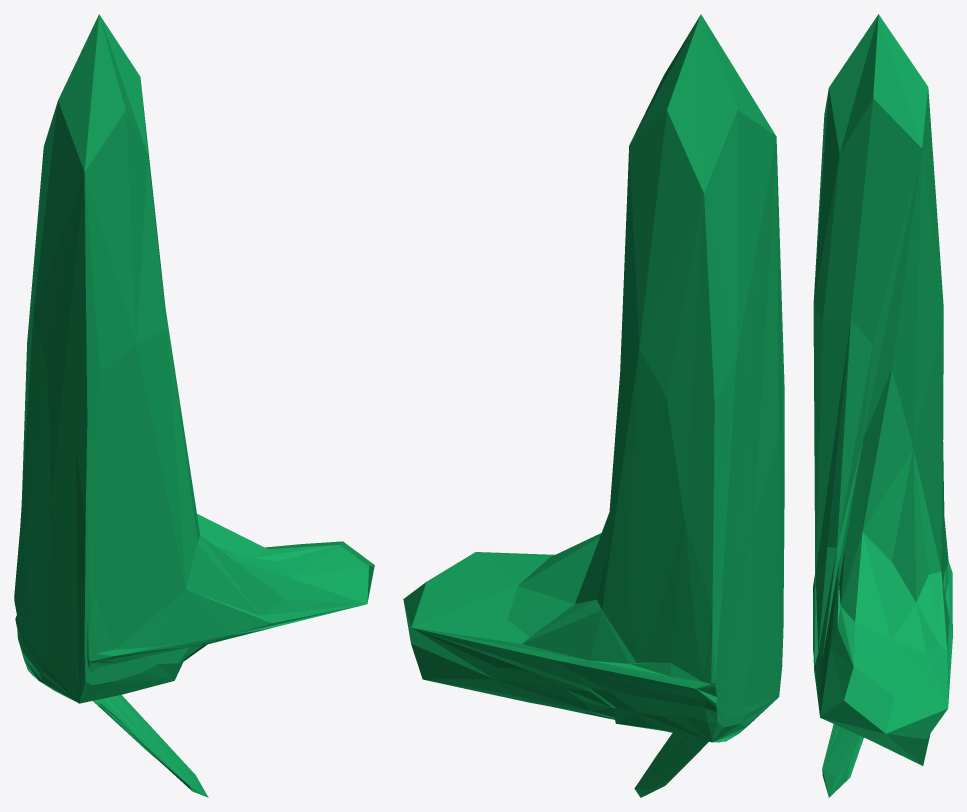
The picture shows the model from 3 angles, left to right: view 1: azimuth 30°, elevation 25°; view 2: azimuth 150°, elevation 25°; view 3: azimuth 270°, elevation 25°; orthographic projection. The views are drawn at different scales.
Visible parts, largest first — view 1: 821_Cube.3307; view 2: 821_Cube.3307; view 3: 821_Cube.3307.
Boxes of the visible parts, x1,y1,x2,y2 form: 821_Cube.3307: (14,14,374,797); 821_Cube.3307: (403,14,784,797); 821_Cube.3307: (813,14,952,797).
Bounding box in the file's own units: 6.03 × 13.73 × 2.33.
